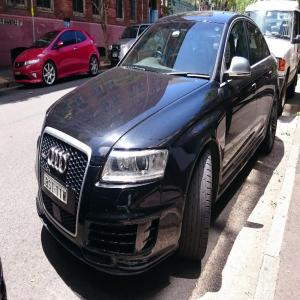Vehicle-registration-plate: (45, 174, 68, 205)
